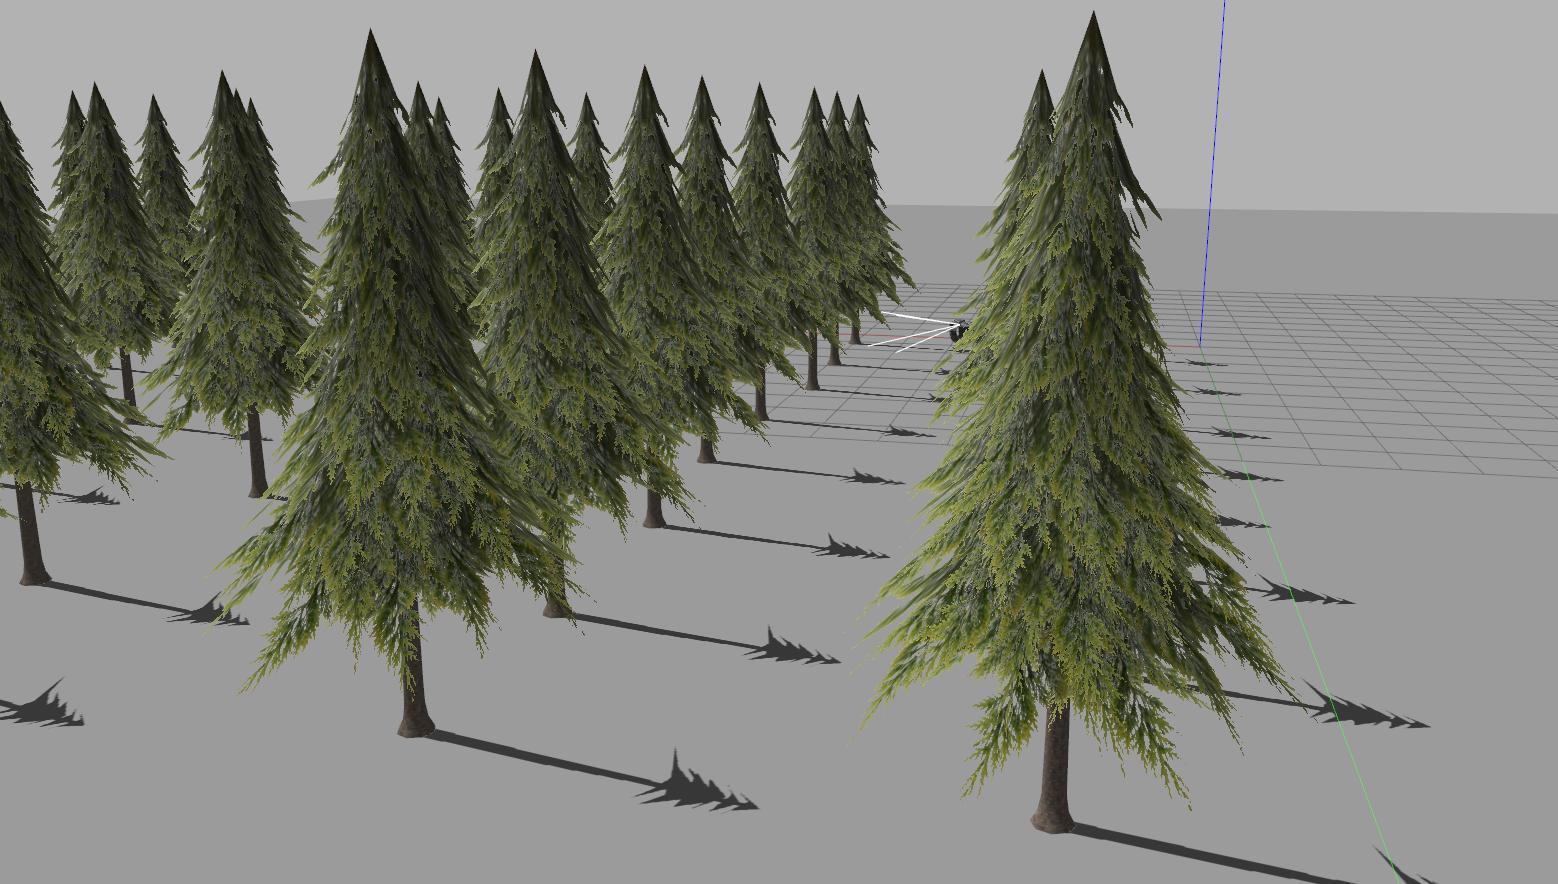tree_gazebo: (228, 36, 556, 736), (475, 58, 645, 618), (0, 104, 158, 582), (594, 73, 761, 527), (149, 73, 310, 499), (55, 86, 177, 407), (678, 79, 767, 418), (733, 86, 807, 342), (137, 94, 195, 268), (754, 368, 769, 420)
